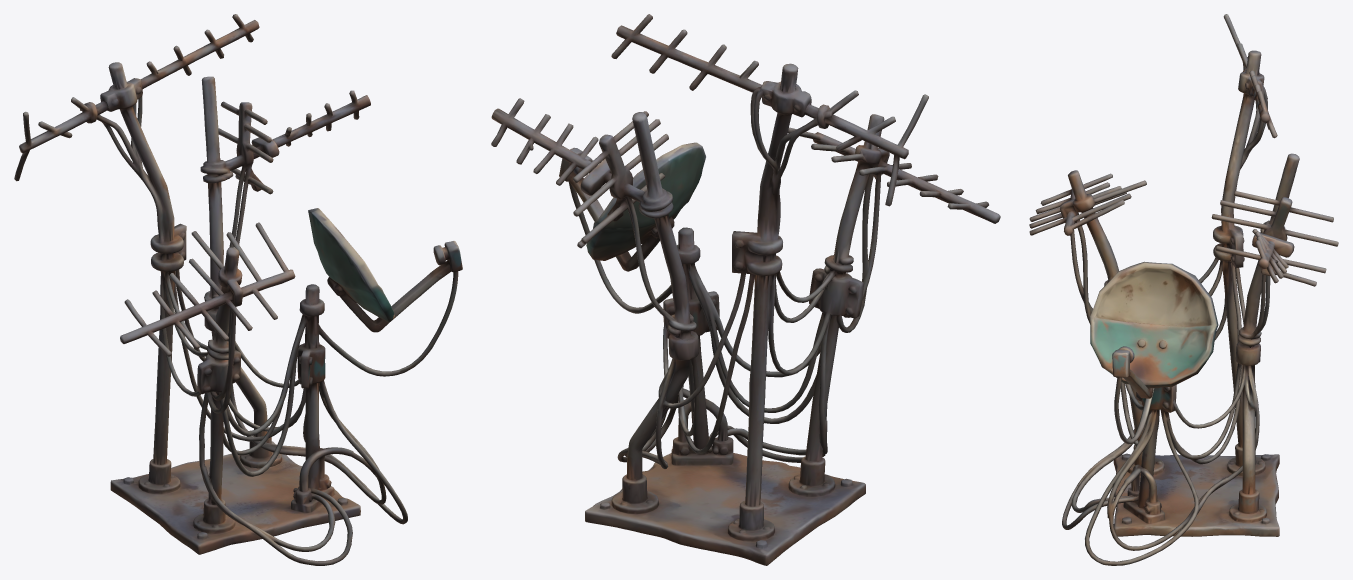
File: roof_antennas.glb
3 renders of one model, left to right at view 1: azimuth 30°, elevation 25°; view 2: azimuth 150°, elevation 25°; view 3: azimuth 270°, elevation 25°, orthographic. The views are drawn at different scales.
Visible parts, largest first — view 1: tripo_part_0, tripo_part_1, tripo_part_2, tripo_part_3, tripo_part_7, tripo_part_6, tripo_part_5, tripo_part_8, tripo_part_9, tripo_part_10, tripo_part_4; view 2: tripo_part_0, tripo_part_1, tripo_part_2, tripo_part_3, tripo_part_6, tripo_part_7, tripo_part_8, tripo_part_9, tripo_part_4, tripo_part_5, tripo_part_11, tripo_part_10; view 3: tripo_part_0, tripo_part_3, tripo_part_1, tripo_part_5, tripo_part_2, tripo_part_7, tripo_part_6, tripo_part_4, tripo_part_10, tripo_part_8, tripo_part_11.
Part boxes in pixels (x1,y1,x2,y2): tripo_part_0: (97,62,361,554); tripo_part_1: (200,76,370,311); tripo_part_2: (199,307,352,565); tripo_part_3: (308,208,462,332); tripo_part_7: (120,222,295,356); tripo_part_6: (297,284,325,490); tripo_part_5: (223,381,407,524); tripo_part_8: (141,14,259,89); tripo_part_9: (14,97,108,181); tripo_part_10: (318,271,458,376); tripo_part_4: (175,269,299,387); tripo_part_0: (585,63,884,565); tripo_part_1: (491,98,696,341); tripo_part_2: (688,173,881,462); tripo_part_3: (559,142,705,271); tripo_part_6: (663,227,719,454); tripo_part_7: (788,127,1000,223); tripo_part_8: (611,14,761,92); tripo_part_9: (805,90,928,206); tripo_part_4: (658,273,745,419); tripo_part_5: (617,385,711,468); tripo_part_11: (706,274,755,447); tripo_part_10: (568,181,672,313); tripo_part_0: (1068,50,1279,536); tripo_part_3: (1089,261,1218,398); tripo_part_1: (1211,153,1338,348); tripo_part_5: (1085,409,1259,565); tripo_part_2: (1062,220,1159,529); tripo_part_7: (1029,173,1131,235); tripo_part_6: (1132,385,1176,508); tripo_part_4: (1173,267,1259,428); tripo_part_10: (1114,377,1154,444); tripo_part_8: (1249,70,1277,138); tripo_part_11: (1229,261,1241,433).
Size of the model in its own units: 0.8329 by 0.9811 by 0.6264.
1 material, 1 textured.
